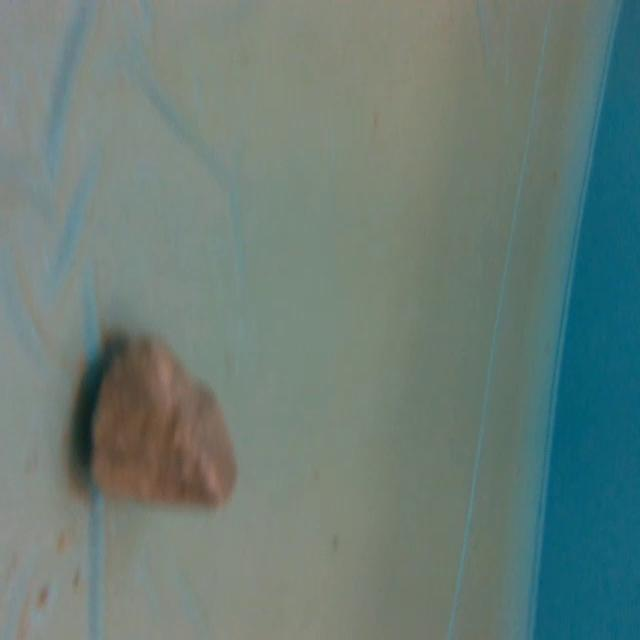rock: (80, 320, 243, 520)
